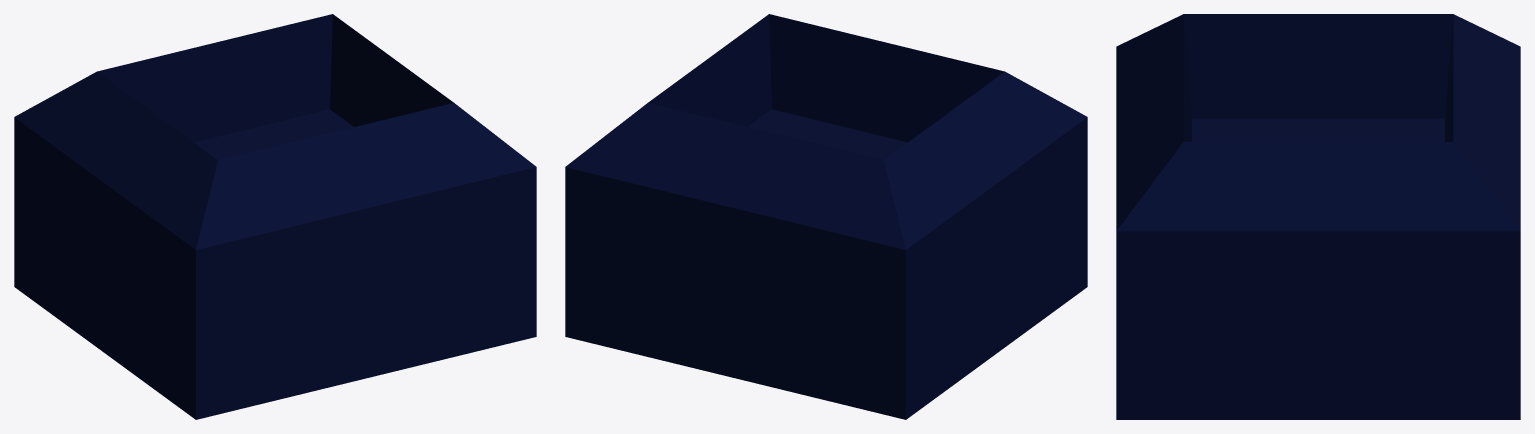
File: rocketlauncher3.fbx
The picture shows the model from 3 angles, left to right: view 1: azimuth 30°, elevation 25°; view 2: azimuth 150°, elevation 25°; view 3: azimuth 270°, elevation 25°; orthographic projection. The views are drawn at different scales.
Visible parts, largest first — view 1: Cube; view 2: Cube; view 3: Cube.
Part boxes in pixels (x1,y1,x2,y2): Cube: (14,14,536,419); Cube: (565,14,1087,419); Cube: (1116,14,1520,419).
Bounding box in the file's own units: 130 × 81.77 × 120.
